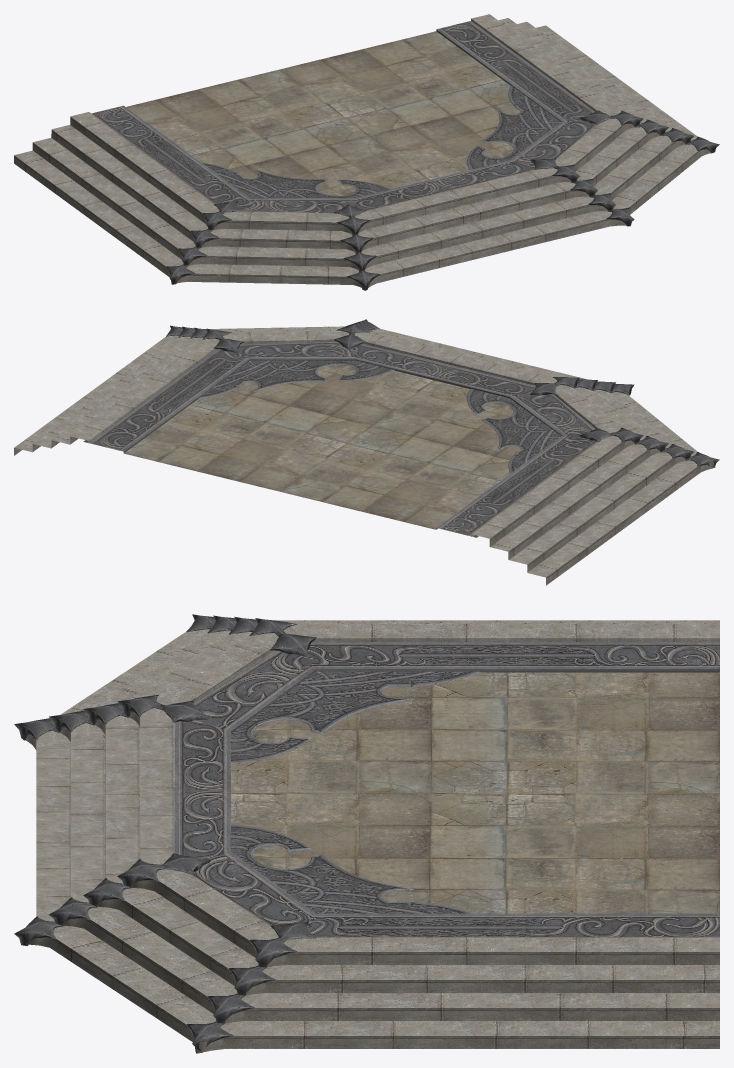
Rendered from Stair2.fbx.
3 views of the same model, one above another, from view 1: azimuth 30°, elevation 25°; view 2: azimuth 150°, elevation 25°; view 3: azimuth 270°, elevation 25° (orthographic). The views are drawn at different scales.
Parts seen in each view (by area): view 1: LV_Nigraturis_Lower_Stair02_SM_KBE; view 2: LV_Nigraturis_Lower_Stair02_SM_KBE; view 3: LV_Nigraturis_Lower_Stair02_SM_KBE.
Part boxes in pixels (x1,y1,x2,y2): LV_Nigraturis_Lower_Stair02_SM_KBE: (14, 14, 719, 290); LV_Nigraturis_Lower_Stair02_SM_KBE: (14, 319, 719, 585); LV_Nigraturis_Lower_Stair02_SM_KBE: (14, 614, 719, 1053).
Size of the model in its own units: 3.52 by 0.2289 by 2.44.
4 materials, 4 textured.
